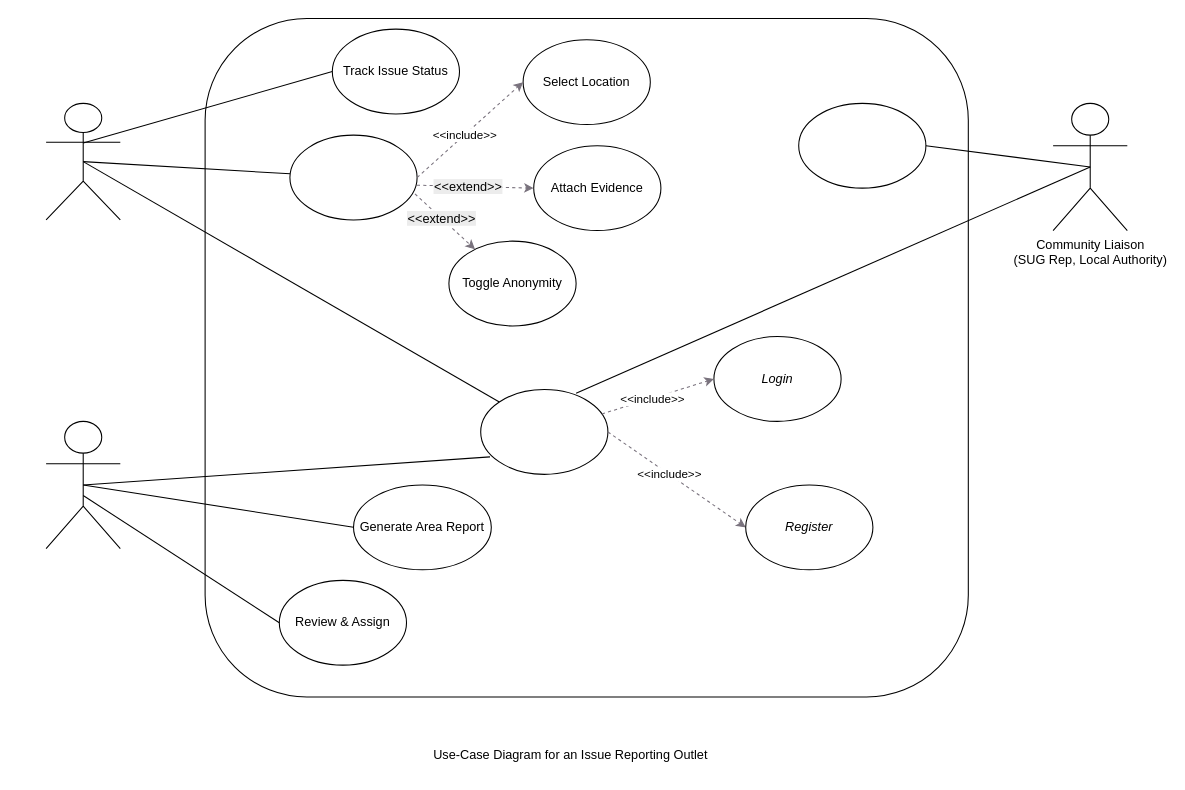
The diagram is 1185 pixels wide and 790 high, and some of its shapes have lost their labels. Here are the shapes that lost their labels. From the top down, the box of each, then its label:
(45, 102, 120, 220): Reporter ( Student and Indigene )
(798, 102, 926, 188): Update Issue Status
(289, 134, 417, 220): Submit Issue
(480, 388, 608, 474): Authenticate User
(45, 420, 120, 549): System Administrator
